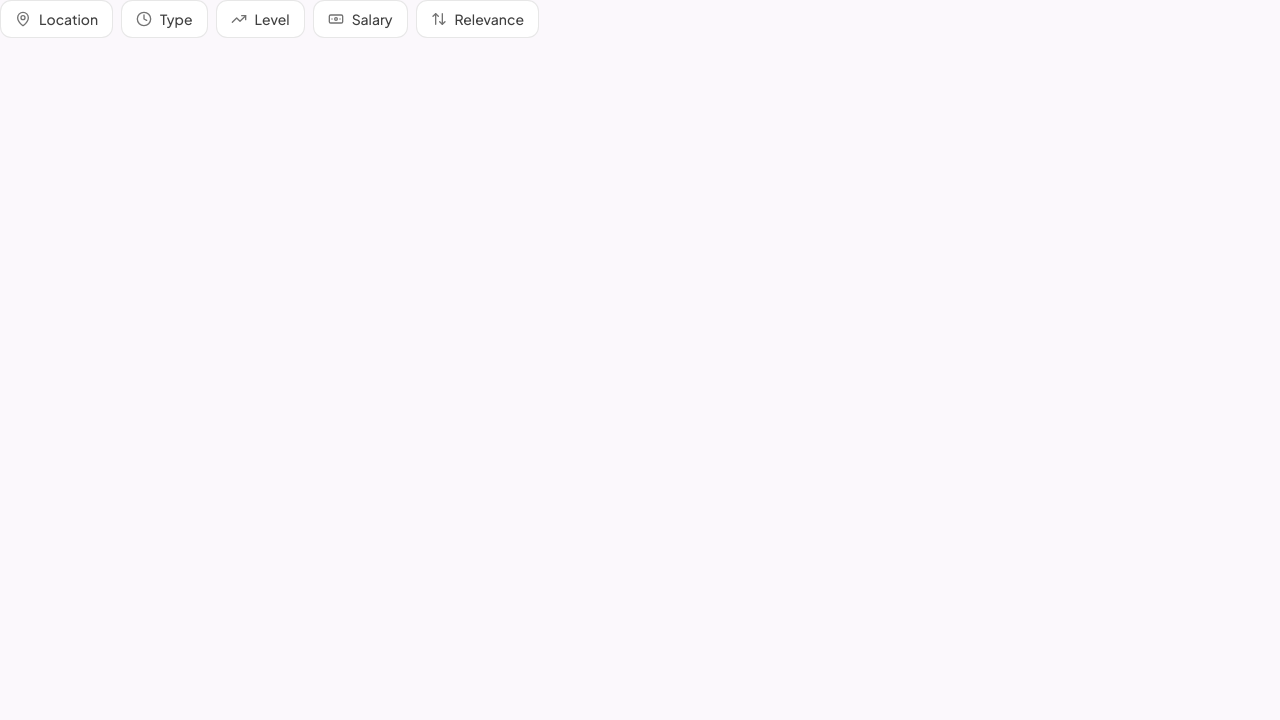
Test case: ToolbarFilters Component › Level Filter Dropdown (media_1790280888645.png) › opens dropdown and lists all 4 experience levels
Step 1. Click the button "Level" → (260, 19), box [216,0,305,38]
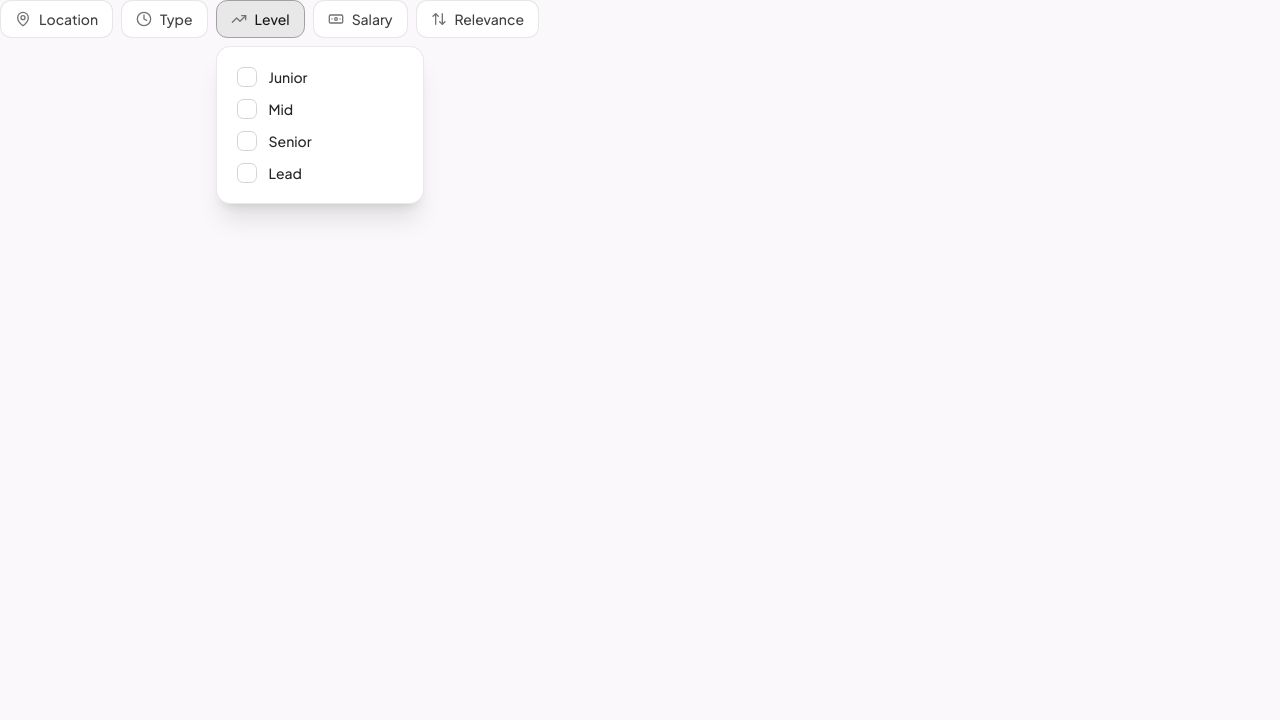
Result: the dialog named "experience level filter" is shown at [216,46,424,204]
Result: the text "Junior" is shown at [268,67,308,87]
Result: the text "Mid" is shown at [268,99,293,119]
